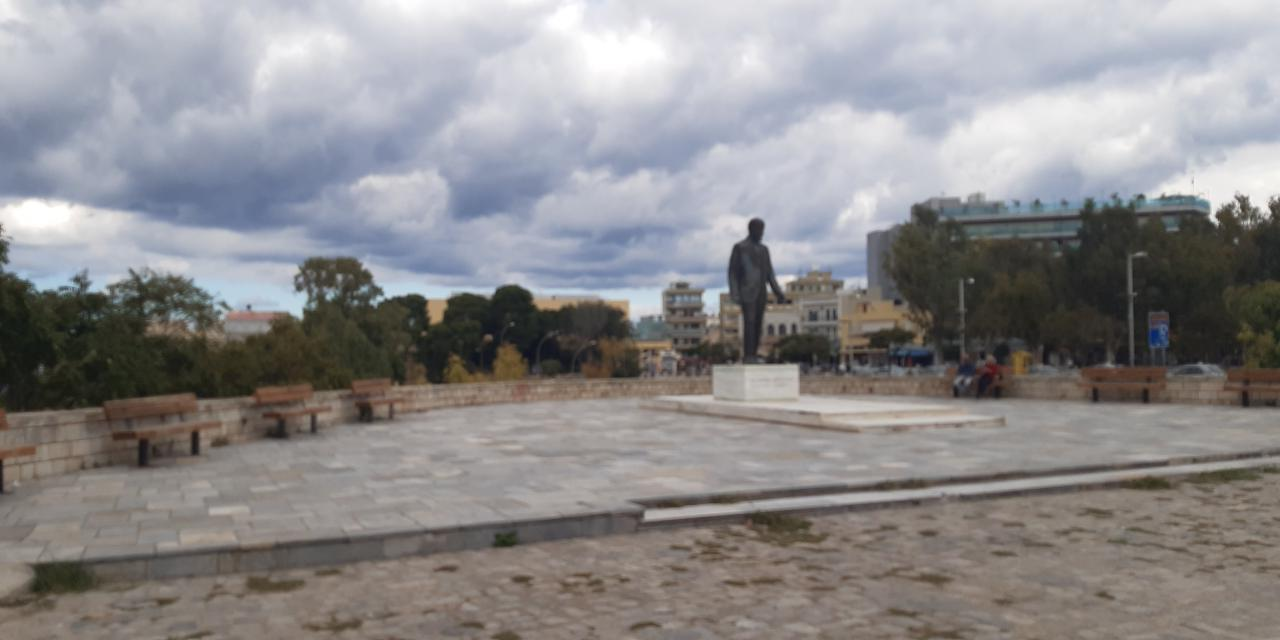Venizelos: (727, 220, 790, 361)
